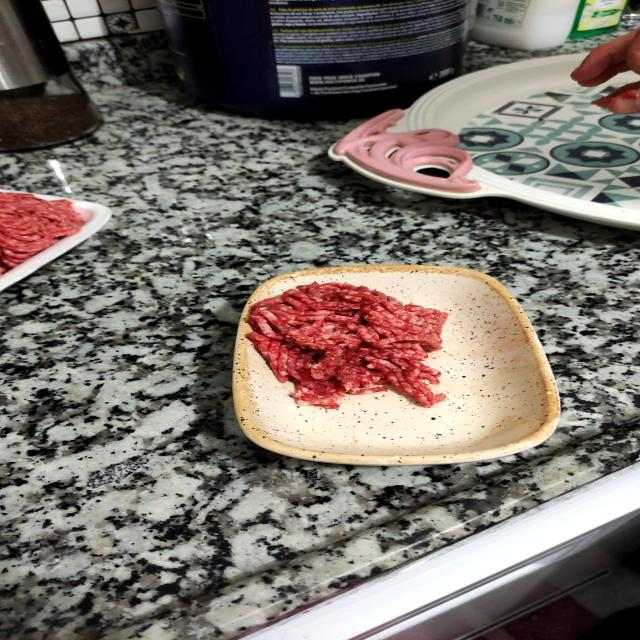ground meat: (224, 256, 512, 436)
